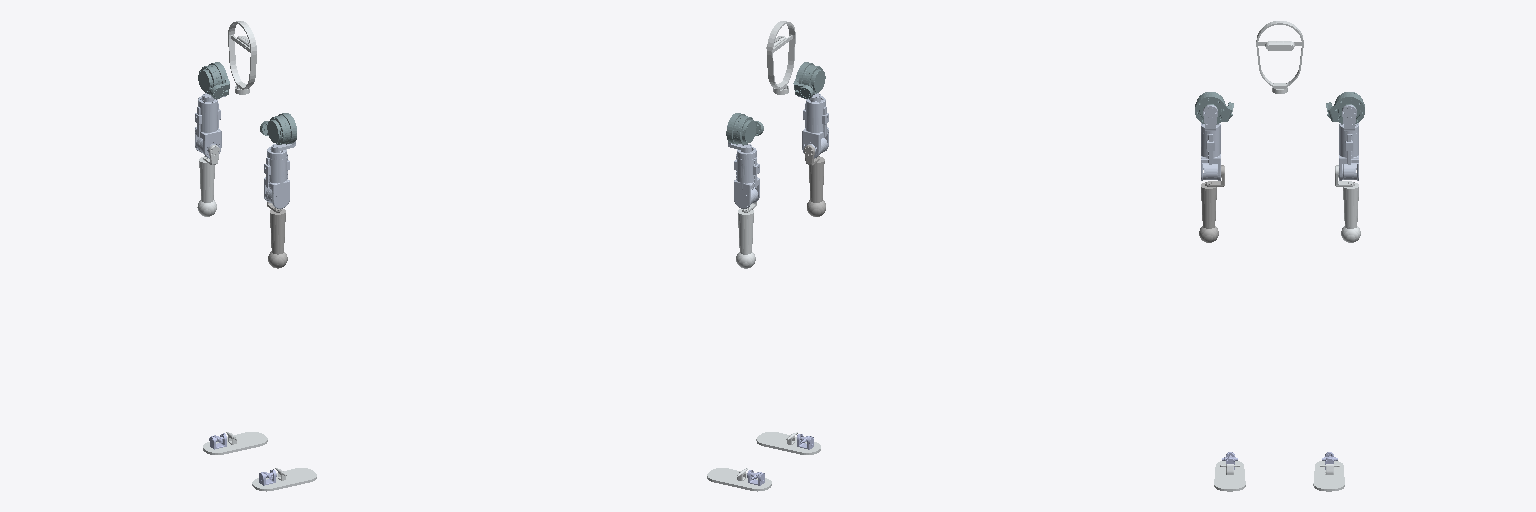
--- Render facts (derived) ---
The picture shows the robot from 3 angles, left to right: view 1: azimuth 30°, elevation 25°; view 2: azimuth 150°, elevation 25°; view 3: azimuth 270°, elevation 25°; orthographic projection.
Model v3all with 23 links and 22 joints (12 revolute, 10 fixed), rooted at base_link, posed every joint at zero.
Visible links, largest first — view 1: right_arm_yaw_link, left_arm_yaw_link, head_link, left_arm_pitch_lower_link, right_arm_pitch_lower_link, left_arm_pitch_higher_link, right_arm_pitch_higher_link, left_ankle_roll_link, right_ankle_roll_link; view 2: left_arm_yaw_link, right_arm_yaw_link, head_link, right_arm_pitch_lower_link, left_arm_pitch_lower_link, left_arm_pitch_higher_link, right_arm_pitch_higher_link, left_ankle_roll_link, right_ankle_roll_link; view 3: left_arm_yaw_link, right_arm_yaw_link, left_arm_pitch_lower_link, right_arm_pitch_lower_link, head_link, left_ankle_roll_link, right_ankle_roll_link, right_arm_pitch_higher_link, left_arm_pitch_higher_link.
Boxes of the visible links, bbox=[...] form: right_arm_yaw_link: bbox=[264, 147, 289, 208]; left_arm_yaw_link: bbox=[195, 96, 221, 158]; head_link: bbox=[228, 21, 256, 94]; left_arm_pitch_lower_link: bbox=[197, 145, 219, 216]; right_arm_pitch_lower_link: bbox=[267, 202, 287, 268]; left_arm_pitch_higher_link: bbox=[198, 62, 229, 98]; right_arm_pitch_higher_link: bbox=[260, 113, 296, 144]; left_ankle_roll_link: bbox=[203, 432, 267, 454]; right_ankle_roll_link: bbox=[252, 468, 316, 491]; left_arm_yaw_link: bbox=[734, 147, 759, 208]; right_arm_yaw_link: bbox=[802, 96, 828, 158]; head_link: bbox=[766, 21, 795, 94]; right_arm_pitch_lower_link: bbox=[804, 145, 825, 216]; left_arm_pitch_lower_link: bbox=[736, 202, 756, 268]; left_arm_pitch_higher_link: bbox=[726, 113, 763, 144]; right_arm_pitch_higher_link: bbox=[793, 62, 825, 98]; left_ankle_roll_link: bbox=[707, 468, 771, 491]; right_ankle_roll_link: bbox=[756, 432, 820, 454]; left_arm_yaw_link: bbox=[1339, 123, 1358, 180]; right_arm_yaw_link: bbox=[1201, 123, 1220, 180]; left_arm_pitch_lower_link: bbox=[1335, 165, 1360, 242]; right_arm_pitch_lower_link: bbox=[1199, 165, 1224, 242]; head_link: bbox=[1256, 21, 1303, 93]; left_ankle_roll_link: bbox=[1313, 461, 1344, 491]; right_ankle_roll_link: bbox=[1214, 461, 1245, 491]; right_arm_pitch_higher_link: bbox=[1195, 92, 1233, 123]; left_arm_pitch_higher_link: bbox=[1326, 92, 1364, 123].
Size in the robot's own frame: 0.21 by 0.518 by 1.5 metres.
Meshes: 23 distinct files referenced, 13 mesh visuals loaded (13 binary STL); not drawn: 10 (reference not matched to a file when rendering).

The robot description file, URDF, robot "v3all":
<?xml version="1.0" encoding="utf-8"?>
<!-- This URDF was automatically created by SolidWorks to URDF Exporter! Originally created by Stephen Brawner ([email redacted]) 
     Commit Version: 1.6.0-4-g7f85cfe  Build Version: 1.6.7995.38578
     For more information, please see http://wiki.ros.org/sw_urdf_exporter -->
<robot
  name="v3all">
  <link
    name="base_link">
    <inertial>
      <origin
        xyz="-1E-06 5E-07 0.0919"
        rpy="0 0 0" />
      <mass
        value="5.9904" />
      <inertia
        ixx="0.039668"
        ixy="-3E-06"
        ixz="-1.4E-05"
        iyy="0.026908"
        iyz="-5E-06"
        izz="0.028199" />
    </inertial>
    <visual>
      <origin
        xyz="0 0 0"
        rpy="0 0 0" />
      <geometry>
        <mesh
          filename="package://mvr_robot_control/meshes/base_link.STL" />
      </geometry>
      <material
        name="">
        <color
          rgba="0.7529 0.7529 0.7529 1" />
      </material>
    </visual>
    <collision>
      <origin
        xyz="0 0. 0.43"
        rpy="0 0 0" />
      <geometry>
        <box size="0.21 0.52 0.86"/>
      </geometry>
    </collision>
<!--    <collision>-->
<!--      <origin-->
<!--        xyz="0 0 0"-->
<!--        rpy="0 0 0" />-->
<!--      <geometry>-->
<!--        <mesh-->
<!--          filename="package://mvr_robot_control/meshes/base_link.STL" />-->
<!--      </geometry>-->
<!--    </collision>-->
  </link>
  <link
    name="left_hip_pitch_link">
    <inertial>
      <origin
        xyz="0.0013 2E-05 0.0723"
        rpy="0 0 0" />
      <mass
        value="1.51575" />
      <inertia
        ixx="0.003169"
        ixy="0"
        ixz="-1.4E-05"
        iyy="0.002662"
        iyz="4E-06"
        izz="0.001994" />
    </inertial>
    <visual>
      <origin
        xyz="0 0 0"
        rpy="0 0 0" />
      <geometry>
        <mesh
          filename="package://mvr_robot_control/meshes/left_hip_pitch_link.STL" />
      </geometry>
      <material
        name="">
        <color
          rgba="0.752 0.752 0.752 1" />
      </material>
    </visual>
<!--    <collision>-->
<!--      <origin-->
<!--        xyz="0 0 0"-->
<!--        rpy="0 0 0" />-->
<!--      <geometry>-->
<!--        <mesh-->
<!--          filename="package://mvr_robot_control/meshes/left_hip_pitch_link.STL" />-->
<!--      </geometry>-->
<!--    </collision>-->
  </link>
  <joint
    name="left_hip_pitch_joint"
    type="revolute">
    <origin
      xyz="0 0.0717 0.0713"
      rpy="-1.8326 0 0" />
    <parent
      link="base_link" />
    <child
      link="left_hip_pitch_link" />
    <axis
      xyz="0 0 -1" />
    <limit
      lower="-1.5"
      upper="1"
      effort="150"
      velocity="140" />
  </joint>
  <link
    name="left_hip_roll_link">
    <inertial>
      <origin
        xyz="-0.0859 -0.023 -0.0056"
        rpy="0 0 0" />
      <mass
        value="1.883003" />
      <inertia
        ixx="0.003605"
        ixy="-0.00063"
        ixz="0.000351"
        iyy="0.005783"
        iyz="9.2E-05"
        izz="0.005331" />
    </inertial>
    <visual>
      <origin
        xyz="0 0 0"
        rpy="0 0 0" />
      <geometry>
        <mesh
          filename="package://mvr_robot_control/meshes/left_hip_roll_link.STL" />
      </geometry>
      <material
        name="">
        <color
          rgba="0.752 0.752 0.752 1" />
      </material>
    </visual>
<!--    <collision>-->
<!--      <origin-->
<!--        xyz="0 0 0"-->
<!--        rpy="0 0 0" />-->
<!--      <geometry>-->
<!--        <mesh-->
<!--          filename="package://mvr_robot_control/meshes/left_hip_roll_link.STL" />-->
<!--      </geometry>-->
<!--    </collision>-->
  </link>
  <joint
    name="left_hip_roll_joint"
    type="revolute">
    <origin
      xyz="0.0035 0 0.082"
      rpy="-1.5708 0 -1.5708" />
    <parent
      link="left_hip_pitch_link" />
    <child
      link="left_hip_roll_link" />
    <axis
      xyz="0 0 -1" />
    <limit
      lower="-0.4"
      upper="1"
      effort="90"
      velocity="157" />
  </joint>
  <link
    name="left_hip_yaw_link">
    <inertial>
      <origin
        xyz="-0.0038 -0.002 0.2637"
        rpy="0 0 0" />
      <mass
        value="3.121094" />
      <inertia
        ixx="0.012279"
        ixy="5E-06"
        ixz="5.8E-05"
        iyy="0.010554"
        iyz="0"
        izz="0.005795" />
    </inertial>
    <visual>
      <origin
        xyz="0 0 0"
        rpy="0 0 0" />
      <geometry>
        <mesh
          filename="package://mvr_robot_control/meshes/left_hip_yaw_link.STL" />
      </geometry>
      <material
        name="">
        <color
          rgba="0.752 0.752 0.752 1" />
      </material>
    </visual>
<!--    <collision>-->
<!--      <origin-->
<!--        xyz="0 0 0"-->
<!--        rpy="0 0 0" />-->
<!--      <geometry>-->
<!--        <mesh-->
<!--          filename="package://mvr_robot_control/meshes/left_hip_yaw_link.STL" />-->
<!--      </geometry>-->
<!--    </collision>-->
  </link>
  <joint
    name="left_hip_yaw_joint"
    type="revolute">
    <origin
      xyz="0 0 0"
      rpy="1.5708 0 -1.309" />
    <parent
      link="left_hip_roll_link" />
    <child
      link="left_hip_yaw_link" />
    <axis
      xyz="0 0 -1" />
    <limit
      lower="-1.5"
      upper="1.5"
      effort="90"
      velocity="157" />
  </joint>
  <link
    name="left_knee_link">
    <inertial>
      <origin
        xyz="0.0014 0.1786 -0.0035"
        rpy="0 0 0" />
      <mass
        value="2.333767" />
      <inertia
        ixx="0.021691"
        ixy="-0.000614"
        ixz="-1.8E-05"
        iyy="0.002347"
        iyz="-0.000306"
        izz="0.021125" />
    </inertial>
    <visual>
      <origin
        xyz="0 0 0"
        rpy="0 0 0" />
      <geometry>
        <mesh
          filename="package://mvr_robot_control/meshes/left_knee_link.STL" />
      </geometry>
      <material
        name="">
        <color
          rgba="0.8078 0.8431 0.9059 1" />
      </material>
    </visual>
<!--    <collision>-->
<!--      <origin-->
<!--        xyz="0 0 0"-->
<!--        rpy="0 0 0" />-->
<!--      <geometry>-->
<!--        <mesh-->
<!--          filename="package://mvr_robot_control/meshes/left_knee_link.STL" />-->
<!--      </geometry>-->
<!--    </collision>-->
  </link>
  <joint
    name="left_knee_joint"
    type="revolute">
    <origin
      xyz="0.003 -0.002 0.277"
      rpy="1.5708 0 1.5708" />
    <parent
      link="left_hip_yaw_link" />
    <child
      link="left_knee_link" />
    <axis
      xyz="0 0 1" />
    <limit
      lower="0"
      upper="1.5"
      effort="150"
      velocity="140" />
  </joint>
  <link
    name="left_ankle_pitch_link">
    <inertial>
      <origin
        xyz="0 0.004 0"
        rpy="0 0 0" />
      <mass
        value="0.118663" />
      <inertia
        ixx="1.8E-05"
        ixy="0"
        ixz="0"
        iyy="3.3E-05"
        iyz="0"
        izz="3.3E-05" />
    </inertial>
    <visual>
      <origin
        xyz="0 0 0"
        rpy="0 0 0" />
      <geometry>
        <mesh
          filename="package://mvr_robot_control/meshes/left_ankle_pitch_link.STL" />
      </geometry>
      <material
        name="">
        <color
          rgba="0.792 0.819 0.933 1" />
      </material>
    </visual>
<!--    <collision>-->
<!--      <origin-->
<!--        xyz="0 0 0"-->
<!--        rpy="0 0 0" />-->
<!--      <geometry>-->
<!--        <mesh-->
<!--          filename="package://mvr_robot_control/meshes/left_ankle_pitch_link.STL" />-->
<!--      </geometry>-->
<!--    </collision>-->
  </link>
  <joint
    name="left_ankle_pitch_joint"
    type="revolute">
    <origin
      xyz="0 0.3791 -0.003"
      rpy="0 0 0" />
    <parent
      link="left_knee_link" />
    <child
      link="left_ankle_pitch_link" />
    <axis
      xyz="0 0 -1" />
    <limit
      lower="-1.5"
      upper="1.5"
      effort="36"
      velocity="89" />
  </joint>
  <link
    name="left_ankle_roll_link">
    <inertial>
      <origin
        xyz="-0.0204 0.0008 0.0528"
        rpy="0 0 0" />
      <mass
        value="0.21168" />
      <inertia
        ixx="0.000603"
        ixy="1E-06"
        ixz="3E-06"
        iyy="0.000509"
        iyz="0"
        izz="0.000135" />
    </inertial>
    <visual>
      <origin
        xyz="0 0 0"
        rpy="0 0 0" />
      <geometry>
        <mesh
          filename="package://mvr_robot_control/meshes/left_ankle_roll_link.STL" />
      </geometry>
      <material
        name="">
        <color
          rgba="0.898 0.9176 0.9294 1" />
      </material>
    </visual>
    <collision>
      <origin
        xyz="0 0 0"
        rpy="0 0 0" />
      <geometry>
        <mesh
          filename="package://mvr_robot_control/meshes/left_ankle_roll_link.STL" />
      </geometry>
    </collision>
  </link>
  <joint
    name="left_ankle_roll_joint"
    type="revolute">
    <origin
      xyz="0 0 0"
      rpy="-1.5708 0 -1.5708" />
    <parent
      link="left_ankle_pitch_link" />
    <child
      link="left_ankle_roll_link" />
    <axis
      xyz="0 0 -1" />
    <limit
      lower="-0.5"
      upper="0.5"
      effort="36"
      velocity="89" />
  </joint>
  <link
    name="right_hip_pitch_link">
    <inertial>
      <origin
        xyz="0.0013 -2E-05 0.072"
        rpy="0 0 0" />
      <mass
        value="1.51575" />
      <inertia
        ixx="0.003161"
        ixy="0"
        ixz="-1E-05"
        iyy="0.002655"
        iyz="-3E-06"
        izz="0.001994" />
    </inertial>
    <visual>
      <origin
        xyz="0 0 0"
        rpy="0 0 0" />
      <geometry>
        <mesh
          filename="package://mvr_robot_control/meshes/right_hip_pitch_link.STL" />
      </geometry>
      <material
        name="">
        <color
          rgba="0.7529 0.7529 0.7529 1" />
      </material>
    </visual>
<!--    <collision>-->
<!--      <origin-->
<!--        xyz="0 0 0"-->
<!--        rpy="0 0 0" />-->
<!--      <geometry>-->
<!--        <mesh-->
<!--          filename="package://mvr_robot_control/meshes/right_hip_pitch_link.STL" />-->
<!--      </geometry>-->
<!--    </collision>-->
  </link>
  <joint
    name="right_hip_pitch_joint"
    type="revolute">
    <origin
      xyz="0 -0.0717 0.0713"
      rpy="1.8326 0 0" />
    <parent
      link="base_link" />
    <child
      link="right_hip_pitch_link" />
    <axis
      xyz="0 0 -1" />
    <limit
      lower="-1"
      upper="1.5"
      effort="150"
      velocity="140" />
  </joint>
  <link
    name="right_hip_roll_link">
    <inertial>
      <origin
        xyz="-0.0859 0.023 -0.0056"
        rpy="0 0 0" />
      <mass
        value="1.883286" />
      <inertia
        ixx="0.003605"
        ixy="0.000629"
        ixz="0.000351"
        iyy="0.005784"
        iyz="-9.3E-05"
        izz="0.005331" />
    </inertial>
    <visual>
      <origin
        xyz="0 0 0"
        rpy="0 0 0" />
      <geometry>
        <mesh
          filename="package://mvr_robot_control/meshes/right_hip_roll_link.STL" />
      </geometry>
      <material
        name="">
        <color
          rgba="0.752 0.752 0.752 1" />
      </material>
    </visual>
<!--    <collision>-->
<!--      <origin-->
<!--        xyz="0 0 0"-->
<!--        rpy="0 0 0" />-->
<!--      <geometry>-->
<!--        <mesh-->
<!--          filename="package://mvr_robot_control/meshes/right_hip_roll_link.STL" />-->
<!--      </geometry>-->
<!--    </collision>-->
  </link>
  <joint
    name="right_hip_roll_joint"
    type="revolute">
    <origin
      xyz="0.0035 0 0.082"
      rpy="1.5708 0 1.5708" />
    <parent
      link="right_hip_pitch_link" />
    <child
      link="right_hip_roll_link" />
    <axis
      xyz="0 0 -1" />
    <limit
      lower="-1"
      upper="0.4"
      effort="90"
      velocity="157" />
  </joint>
  <link
    name="right_hip_yaw_link">
    <inertial>
      <origin
        xyz="-0.0038 0.002 0.2637"
        rpy="0 0 0" />
      <mass
        value="3.121094" />
      <inertia
        ixx="0.012278"
        ixy="0"
        ixz="5.9E-05"
        iyy="0.010552"
        iyz="-1E-06"
        izz="0.005793" />
    </inertial>
    <visual>
      <origin
        xyz="0 0 0"
        rpy="0 0 0" />
      <geometry>
        <mesh
          filename="package://mvr_robot_control/meshes/right_hip_yaw_link.STL" />
      </geometry>
      <material
        name="">
        <color
          rgba="0.752 0.752 0.752 1" />
      </material>
    </visual>
<!--    <collision>-->
<!--      <origin-->
<!--        xyz="0 0 0"-->
<!--        rpy="0 0 0" />-->
<!--      <geometry>-->
<!--        <mesh-->
<!--          filename="package://mvr_robot_control/meshes/right_hip_yaw_link.STL" />-->
<!--      </geometry>-->
<!--    </collision>-->
  </link>
  <joint
    name="right_hip_yaw_joint"
    type="revolute">
    <origin
      xyz="0 0 0"
      rpy="-1.5708 0 1.309" />
    <parent
      link="right_hip_roll_link" />
    <child
      link="right_hip_yaw_link" />
    <axis
      xyz="0 0 -1" />
    <limit
      lower="-1.5"
      upper="1.5"
      effort="90"
      velocity="157" />
  </joint>
  <link
    name="right_knee_link">
    <inertial>
      <origin
        xyz="0.0013 -0.1813 -0.0035"
        rpy="0 0 0" />
      <mass
        value="2.344445" />
      <inertia
        ixx="0.022495"
        ixy="0.000592"
        ixz="-1.9E-05"
        iyy="0.002341"
        iyz="0.000314"
        izz="0.021942" />
    </inertial>
    <visual>
      <origin
        xyz="0 0 0"
        rpy="0 0 0" />
      <geometry>
        <mesh
          filename="package://mvr_robot_control/meshes/right_knee_link.STL" />
      </geometry>
      <material
        name="">
        <color
          rgba="0.807 0.843 0.905 1" />
      </material>
    </visual>
<!--    <collision>-->
<!--      <origin-->
<!--        xyz="0 0 0"-->
<!--        rpy="0 0 0" />-->
<!--      <geometry>-->
<!--        <mesh-->
<!--          filename="package://mvr_robot_control/meshes/right_knee_link.STL" />-->
<!--      </geometry>-->
<!--    </collision>-->
  </link>
  <joint
    name="right_knee_joint"
    type="revolute">
    <origin
      xyz="0.003 0.002 0.277"
      rpy="-1.5708 0 -1.5708" />
    <parent
      link="right_hip_yaw_link" />
    <child
      link="right_knee_link" />
    <axis
      xyz="0 0 1" />
    <limit
      lower="-1.5"
      upper="0"
      effort="150"
      velocity="140" />
  </joint>
  <link
    name="right_ankle_pitch_link">
    <inertial>
      <origin
        xyz="0 -0.0048 0"
        rpy="0 0 0" />
      <mass
        value="0.098947" />
      <inertia
        ixx="1.7E-05"
        ixy="0"
        ixz="0"
        iyy="2.5E-05"
        iyz="0"
        izz="2.6E-05" />
    </inertial>
    <visual>
      <origin
        xyz="0 0 0"
        rpy="0 0 0" />
      <geometry>
        <mesh
          filename="package://mvr_robot_control/meshes/right_ankle_pitch_link.STL" />
      </geometry>
      <material
        name="">
        <color
          rgba="0.792 0.819 0.933 1" />
      </material>
    </visual>
<!--    <collision>-->
<!--      <origin-->
<!--        xyz="0 0 0"-->
<!--        rpy="0 0 0" />-->
<!--      <geometry>-->
<!--        <mesh-->
<!--          filename="package://mvr_robot_control/meshes/right_ankle_pitch_link.STL" />-->
<!--      </geometry>-->
<!--    </collision>-->
  </link>
  <joint
    name="right_ankle_pitch_joint"
    type="revolute">
    <origin
      xyz="0 -0.3791 -0.003"
      rpy="0 0 0" />
    <parent
      link="right_knee_link" />
    <child
      link="right_ankle_pitch_link" />
    <axis
      xyz="0 0 1" />
    <limit
      lower="-1.5"
      upper="1.5"
      effort="36"
      velocity="89" />
  </joint>
  <link
    name="right_ankle_roll_link">
    <inertial>
      <origin
        xyz="-0.0204 0.0008 0.0528"
        rpy="0 0 0" />
      <mass
        value="0.21168" />
      <inertia
        ixx="0.000603"
        ixy="1E-06"
        ixz="3E-06"
        iyy="0.000509"
        iyz="0"
        izz="0.000135" />
    </inertial>
    <visual>
      <origin
        xyz="0 0 0"
        rpy="0 0 0" />
      <geometry>
        <mesh
          filename="package://mvr_robot_control/meshes/right_ankle_roll_link.STL" />
      </geometry>
      <material
        name="">
        <color
          rgba="0.898 0.917 0.929 1" />
      </material>
    </visual>
    <collision>
      <origin
        xyz="0 0 0"
        rpy="0 0 0" />
      <geometry>
        <mesh
          filename="package://mvr_robot_control/meshes/right_ankle_roll_link.STL" />
      </geometry>
    </collision>
  </link>
  <joint
    name="right_ankle_roll_joint"
    type="revolute">
    <origin
      xyz="0 0 0"
      rpy="1.5708 0 1.5708" />
    <parent
      link="right_ankle_pitch_link" />
    <child
      link="right_ankle_roll_link" />
    <axis
      xyz="0 0 -1" />
    <limit
      lower="-0.5"
      upper="0.5"
      effort="36"
      velocity="89" />
  </joint>
  <link
    name="waist_link">
    <inertial>
      <origin
        xyz="0.002 1E-04 0.2569"
        rpy="0 0 0" />
      <mass
        value="11.494" />
      <inertia
        ixx="0.2006"
        ixy="6.8E-05"
        ixz="0.004701"
        iyy="0.15896"
        iyz="-2.9E-05"
        izz="0.077548" />
    </inertial>
    <visual>
      <origin
        xyz="0 0 0"
        rpy="0 0 0" />
      <geometry>
        <mesh
          filename="package://mvr_robot_control/meshes/waist_link.STL" />
      </geometry>
      <material
        name="">
        <color
          rgba="0.592 0.666 0.682 1" />
      </material>
    </visual>
<!--    <collision>-->
<!--      <origin-->
<!--        xyz="0 0 0"-->
<!--        rpy="0 0 0" />-->
<!--      <geometry>-->
<!--        <mesh-->
<!--          filename="package://mvr_robot_control/meshes/waist_link.STL" />-->
<!--      </geometry>-->
<!--    </collision>-->
  </link>
  <joint
    name="waist_joint"
    type="fixed">
    <origin
      xyz="0 0 0.16799"
      rpy="0 0 0" />
    <parent
      link="base_link" />
    <child
      link="waist_link" />
    <axis
      xyz="0 0 -1" />
    <limit
      lower="-0.5"
      upper="0.5"
      effort="90"
      velocity="157" />
  </joint>
  <link
    name="head_link">
    <inertial>
      <origin
        xyz="0.0094 0.0007 0.1407"
        rpy="0 0 0" />
      <mass
        value="0.414628" />
      <inertia
        ixx="0.002188"
        ixy="0"
        ixz="8E-05"
        iyy="0.001664"
        iyz="6E-06"
        izz="0.000611" />
    </inertial>
    <visual>
      <origin
        xyz="0 0 0"
        rpy="0 0 0" />
      <geometry>
        <mesh
          filename="package://mvr_robot_control/meshes/head_link.STL" />
      </geometry>
      <material
        name="">
        <color
          rgba="0.898 0.917 0.929 1" />
      </material>
    </visual>
<!--    <collision>-->
<!--      <origin-->
<!--        xyz="0 0 0"-->
<!--        rpy="0 0 0" />-->
<!--      <geometry>-->
<!--        <mesh-->
<!--          filename="package://mvr_robot_control/meshes/head_link.STL" />-->
<!--      </geometry>-->
<!--    </collision>-->
  </link>
  <joint
    name="head_joint"
    type="fixed">
    <origin
      xyz="0 0 0.4583"
      rpy="0 0 0" />
    <parent
      link="waist_link" />
    <child
      link="head_link" />
    <axis
      xyz="0 0 -1" />
    <limit
      lower="-1"
      upper="1"
      effort="36"
      velocity="89" />
  </joint>
  <link
    name="left_arm_pitch_higher_link">
    <inertial>
      <origin
        xyz="0.0154 -5E-06 0.1253"
        rpy="0 0 0" />
      <mass
        value="2.5818" />
      <inertia
        ixx="0.002631"
        ixy="0"
        ixz="-1.6E-05"
        iyy="0.002105"
        iyz="1E-06"
        izz="0.001799" />
    </inertial>
    <visual>
      <origin
        xyz="0 0 0"
        rpy="0 0 0" />
      <geometry>
        <mesh
          filename="package://mvr_robot_control/meshes/left_arm_pitch_higher_link.STL" />
      </geometry>
      <material
        name="">
        <color
          rgba="0.592 0.666 0.682 1" />
      </material>
    </visual>
<!--    <collision>-->
<!--      <origin-->
<!--        xyz="0 0 0"-->
<!--        rpy="0 0 0" />-->
<!--      <geometry>-->
<!--        <mesh-->
<!--          filename="package://mvr_robot_control/meshes/left_arm_pitch_higher_link.STL" />-->
<!--      </geometry>-->
<!--    </collision>-->
  </link>
  <joint
    name="left_arm_pitch_higher_joint"
    type="fixed">
    <origin
      xyz="0 0.0879 0.3801"
      rpy="-1.309 0 0" />
    <parent
      link="waist_link" />
    <child
      link="left_arm_pitch_higher_link" />
    <axis
      xyz="0 0 -1" />
    <limit
      lower="-1.5"
      upper="1"
      effort="60"
      velocity="149" />
  </joint>
  <link
    name="left_arm_roll_link">
    <inertial>
      <origin
        xyz="-0.0803 0.021 0.0083"
        rpy="0 0 0" />
      <mass
        value="1.1713" />
      <inertia
        ixx="0.000686"
        ixy="0.000164"
        ixz="-0.000331"
        iyy="0.001253"
        iyz="8.5E-05"
        izz="0.001077" />
    </inertial>
    <visual>
      <origin
        xyz="0 0 0"
        rpy="0 0 0" />
      <geometry>
        <mesh
          filename="package://mvr_robot_control/meshes/left_arm_roll_link.STL" />
      </geometry>
      <material
        name="">
        <color
          rgba="0.807 0.843 0.905 1" />
      </material>
    </visual>
<!--    <collision>-->
<!--      <origin-->
<!--        xyz="0 0 0"-->
<!--        rpy="0 0 0" />-->
<!--      <geometry>-->
<!--        <mesh-->
<!--          filename="package://mvr_robot_control/meshes/left_arm_roll_link.STL" />-->
<!--      </geometry>-->
<!--    </collision>-->
  </link>
  <joint
    name="left_arm_roll_joint"
    type="fixed">
    <origin
      xyz="-0.0036 0.0036 0.126"
      rpy="-1.5708 0 -1.5708" />
    <parent
      link="left_arm_pitch_higher_link" />
    <child
      link="left_arm_roll_link" />
    <axis
      xyz="0 0 -1" />
    <limit
      lower="-0.4"
      upper="1.5"
      effort="60"
      velocity="149" />
  </joint>
  <link
    name="left_arm_yaw_link">
    <inertial>
      <origin
        xyz="-0.001 0.0031 0.2006"
        rpy="0 0 0" />
      <mass
        value="1.3557" />
      <inertia
        ixx="0.002511"
        ixy="0"
        ixz="1.9E-05"
        iyy="0.002598"
        iyz="4E-06"
        izz="0.000808" />
    </inertial>
    <visual>
      <origin
        xyz="0 0 0"
        rpy="0 0 0" />
      <geometry>
        <mesh
          filename="package://mvr_robot_control/meshes/left_arm_yaw_link.STL" />
      </geometry>
      <material
        name="">
        <color
          rgba="0.807 0.843 0.905 1" />
      </material>
    </visual>
<!--    <collision>-->
<!--      <origin-->
<!--        xyz="0 0 0"-->
<!--        rpy="0 0 0" />-->
<!--      <geometry>-->
<!--        <mesh-->
<!--          filename="package://mvr_robot_control/meshes/left_arm_yaw_link.STL" />-->
<!--      </geometry>-->
<!--    </collision>-->
  </link>
  <joint
    name="left_arm_yaw_joint"
    type="fixed">
    <origin
      xyz="0 0 0.0005"
      rpy="1.5708 0 -1.8326" />
    <parent
      link="left_arm_roll_link" />
    <child
      link="left_arm_yaw_link" />
    <axis
      xyz="0 0 1" />
    <limit
      lower="-1"
      upper="1"
      effort="36"
      velocity="89" />
  </joint>
  <link
    name="left_arm_pitch_lower_link">
    <inertial>
      <origin
        xyz="1E-06 0.1289 -0.0075"
        rpy="0 0 0" />
      <mass
        value="0.165316" />
      <inertia
        ixx="0.001027"
        ixy="0"
        ixz="0"
        iyy="9.3E-05"
        iyz="-0.000178"
        izz="0.00097" />
    </inertial>
    <visual>
      <origin
        xyz="0 0 0"
        rpy="0 0 0" />
      <geometry>
        <mesh
          filename="package://mvr_robot_control/meshes/left_arm_pitch_lower_link.STL" />
      </geometry>
      <material
        name="">
        <color
          rgba="0.898 0.917 0.929 1" />
      </material>
    </visual>
<!--    <collision>-->
<!--      <origin-->
<!--        xyz="0 0 0"-->
<!--        rpy="0 0 0" />-->
<!--      <geometry>-->
<!--        <mesh-->
<!--          filename="package://mvr_robot_control/meshes/left_arm_pitch_lower_link.STL" />-->
<!--      </geometry>-->
<!--    </collision>-->
  </link>
  <joint
    name="left_arm_pitch_lower_joint"
    type="fixed">
    <origin
      xyz="0.0075 0.0031 0.2177"
      rpy="1.5708 0 1.5708" />
    <parent
      link="left_arm_yaw_link" />
    <child
      link="left_arm_pitch_lower_link" />
    <axis
      xyz="0 0 1" />
    <limit
      lower="-1.5"
      upper="0"
      effort="36"
      velocity="89" />
  </joint>
  <link
    name="right_arm_pitch_higher_link">
    <inertial>
      <origin
        xyz="0.0154 4E-06 0.1253"
        rpy="0 0 0" />
      <mass
        value="2.5818" />
      <inertia
        ixx="0.002631"
        ixy="0"
        ixz="-1.6E-05"
        iyy="0.002105"
        iyz="-1E-06"
        izz="0.001799" />
    </inertial>
    <visual>
      <origin
        xyz="0 0 0"
        rpy="0 0 0" />
      <geometry>
        <mesh
          filename="package://mvr_robot_control/meshes/right_arm_pitch_higher_link.STL" />
      </geometry>
      <material
        name="">
        <color
          rgba="0.592 0.666 0.682 1" />
      </material>
    </visual>
<!--    <collision>-->
<!--      <origin-->
<!--        xyz="0 0 0"-->
<!--        rpy="0 0 0" />-->
<!--      <geometry>-->
<!--        <mesh-->
<!--          filename="package://mvr_robot_control/meshes/right_arm_pitch_higher_link.STL" />-->
<!--      </geometry>-->
<!--    </collision>-->
  </link>
  <joint
    name="right_arm_pitch_higher_joint"
    type="fixed">
    <origin
      xyz="0 -0.0879 0.3801"
      rpy="1.309 0 0" />
    <parent
      link="waist_link" />
    <child
      link="right_arm_pitch_higher_link" />
    <axis
      xyz="0 0 -1" />
    <limit
      lower="-1"
      upper="1.5"
      effort="60"
      velocity="149" />
  </joint>
  <link
    name="right_arm_roll_link">
    <inertial>
      <origin
        xyz="-0.0838 -0.0225 0.0076"
        rpy="0 0 0" />
      <mass
        value="1.1713" />
      <inertia
        ixx="0.000686"
        ixy="-0.000163"
        ixz="-0.000331"
        iyy="0.001254"
        iyz="-8.5E-05"
        izz="0.001077" />
    </inertial>
    <visual>
      <origin
        xyz="0 0 0"
        rpy="0 0 0" />
      <geometry>
        <mesh
          filename="package://mvr_robot_control/meshes/right_arm_roll_link.STL" />
      </geometry>
      <material
        name="">
        <color
          rgba="0.807 0.843 0.905 1" />
      </material>
    </visual>
<!--    <collision>-->
<!--      <origin-->
<!--        xyz="0 0 0"-->
<!--        rpy="0 0 0" />-->
<!--      <geometry>-->
<!--        <mesh-->
<!--          filename="package://mvr_robot_control/meshes/right_arm_roll_link.STL" />-->
<!--      </geometry>-->
<!--    </collision>-->
  </link>
  <joint
    name="right_arm_roll_joint"
    type="fixed">
    <origin
      xyz="-0.003 0 0.1275"
      rpy="1.5708 0 1.5708" />
    <parent
      link="right_arm_pitch_higher_link" />
    <child
      link="right_arm_roll_link" />
    <axis
      xyz="0 0 -1" />
    <limit
      lower="-1.5"
      upper="0.4"
      effort="60"
      velocity="149" />
  </joint>
  <link
    name="right_arm_yaw_link">
    <inertial>
      <origin
        xyz="-0.0015212 -0.0030023 0.20448"
        rpy="0 0 0" />
      <mass
        value="1.3557" />
      <inertia
        ixx="0.002511"
        ixy="0"
        ixz="1.9E-05"
        iyy="0.002598"
        iyz="3E-06"
        izz="0.000808" />
    </inertial>
    <visual>
      <origin
        xyz="0 0 0"
        rpy="0 0 0" />
      <geometry>
        <mesh
          filename="package://mvr_robot_control/meshes/right_arm_yaw_link.STL" />
      </geometry>
      <material
        name="">
        <color
          rgba="0.80784 0.84314 0.90588 1" />
      </material>
    </visual>
<!--    <collision>-->
<!--      <origin-->
<!--        xyz="0 0 0"-->
<!--        rpy="0 0 0" />-->
<!--      <geometry>-->
<!--        <mesh-->
<!--          filename="package://mvr_robot_control/meshes/right_arm_yaw_link.STL" />-->
<!--      </geometry>-->
<!--    </collision>-->
  </link>
  <joint
    name="right_arm_yaw_joint"
    type="fixed">
    <origin
      xyz="0 0 0"
      rpy="-1.5708 0 1.8326" />
    <parent
      link="right_arm_roll_link" />
    <child
      link="right_arm_yaw_link" />
    <axis
      xyz="0 0 1" />
    <limit
      lower="-1"
      upper="1"
      effort="36"
      velocity="89" />
  </joint>
  <link
    name="right_arm_pitch_lower_link">
    <inertial>
      <origin
        xyz="1E-06 -0.1289 -0.0075"
        rpy="0 0 0" />
      <mass
        value="0.165316" />
      <inertia
        ixx="0.001027"
        ixy="0"
        ixz="0"
        iyy="9.3E-05"
        iyz="0.000178"
        izz="0.00097" />
    </inertial>
    <visual>
      <origin
        xyz="0 0 0"
        rpy="0 0 0" />
      <geometry>
        <mesh
          filename="package://mvr_robot_control/meshes/right_arm_pitch_lower_link.STL" />
      </geometry>
      <material
        name="">
        <color
          rgba="0.752 0.752 0.752 1" />
      </material>
    </visual>
<!--    <collision>-->
<!--      <origin-->
<!--        xyz="0 0 0"-->
<!--        rpy="0 0 0" />-->
<!--      <geometry>-->
<!--        <mesh-->
<!--          filename="package://mvr_robot_control/meshes/right_arm_pitch_lower_link.STL" />-->
<!--      </geometry>-->
<!--    </collision>-->
  </link>
  <joint
    name="right_arm_pitch_lower_joint"
    type="fixed">
    <origin
      xyz="0.007 -0.003 0.2215"
      rpy="-1.5708 0 -1.5708" />
    <parent
      link="right_arm_yaw_link" />
    <child
      link="right_arm_pitch_lower_link" />
    <axis
      xyz="0 0 1" />
    <limit
      lower="0"
      upper="1.5"
      effort="36"
      velocity="89" />
  </joint>
</robot>
